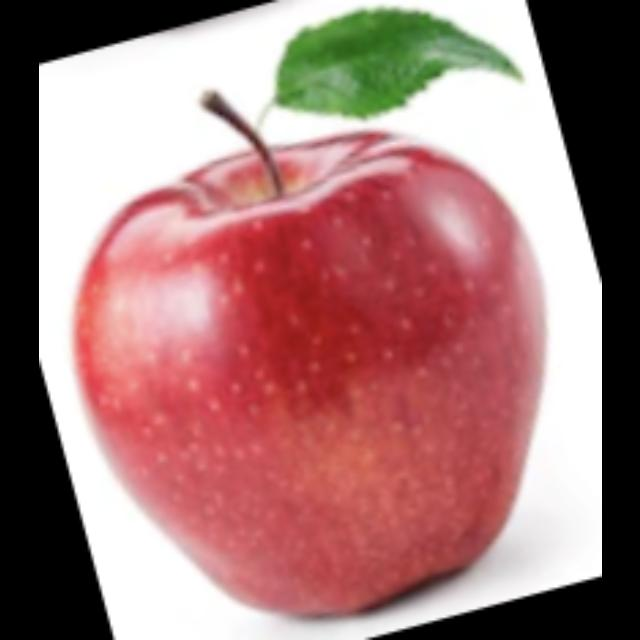Apel Segar: (60, 119, 558, 629)
